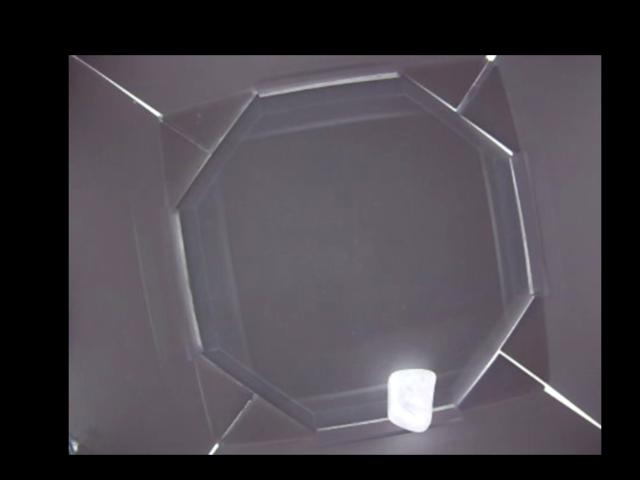Pebble: (387, 366, 434, 432)
